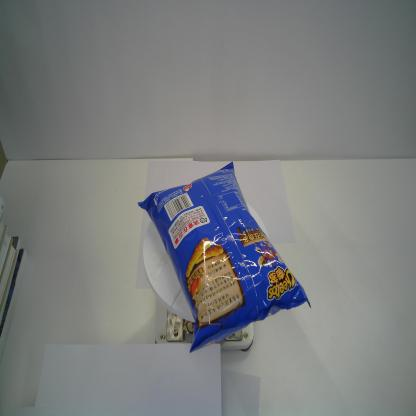Puffed Food: (136, 160, 312, 354)
